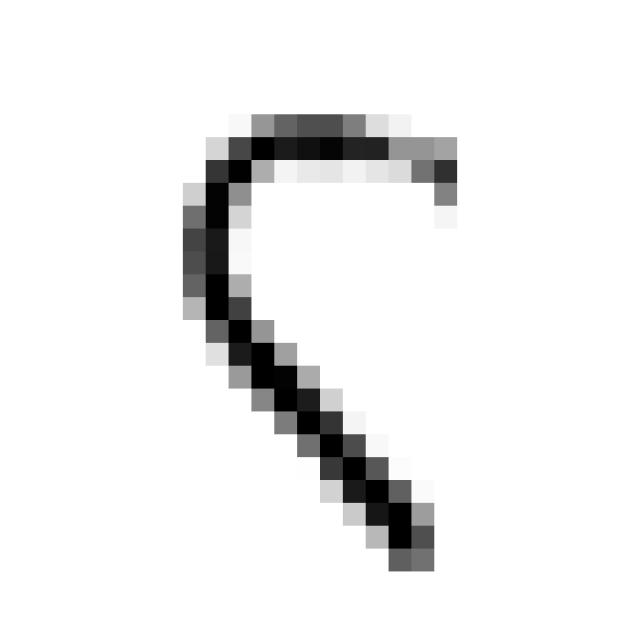2 -two-: (172, 89, 476, 593)
